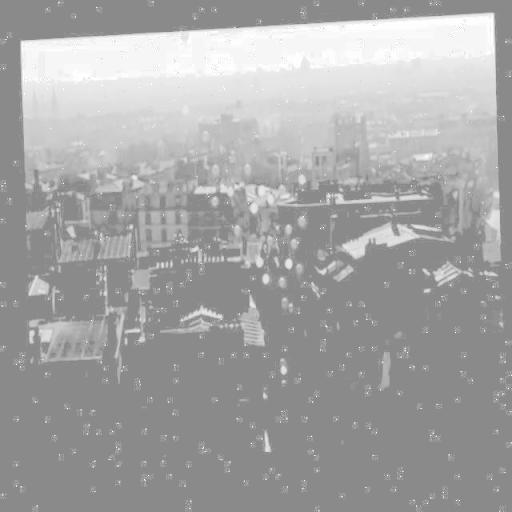balloon: (211, 166, 219, 180), (277, 188, 284, 200), (297, 220, 304, 232), (233, 82, 241, 92), (182, 94, 190, 104), (249, 206, 257, 216), (289, 242, 296, 253), (234, 100, 241, 110), (202, 133, 209, 143), (278, 278, 283, 292), (279, 368, 285, 379), (180, 34, 188, 42), (181, 108, 189, 116), (252, 138, 258, 148), (266, 199, 273, 207), (283, 263, 291, 270), (262, 278, 268, 287), (266, 239, 272, 248), (284, 227, 290, 236), (278, 300, 284, 309), (256, 259, 261, 269), (287, 306, 292, 316), (210, 199, 216, 207), (232, 228, 238, 236), (298, 180, 304, 188), (278, 383, 284, 391), (295, 267, 300, 276), (245, 167, 249, 178), (258, 190, 262, 200), (228, 191, 232, 200), (277, 362, 282, 366)
